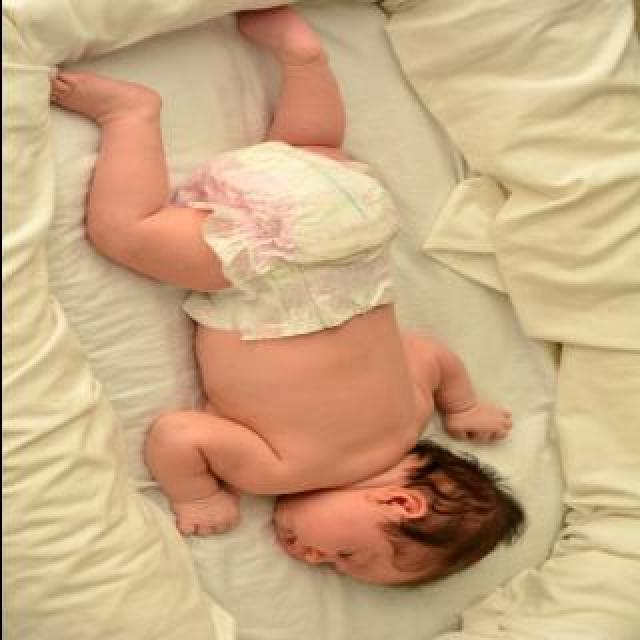baby: (48, 3, 526, 587)
